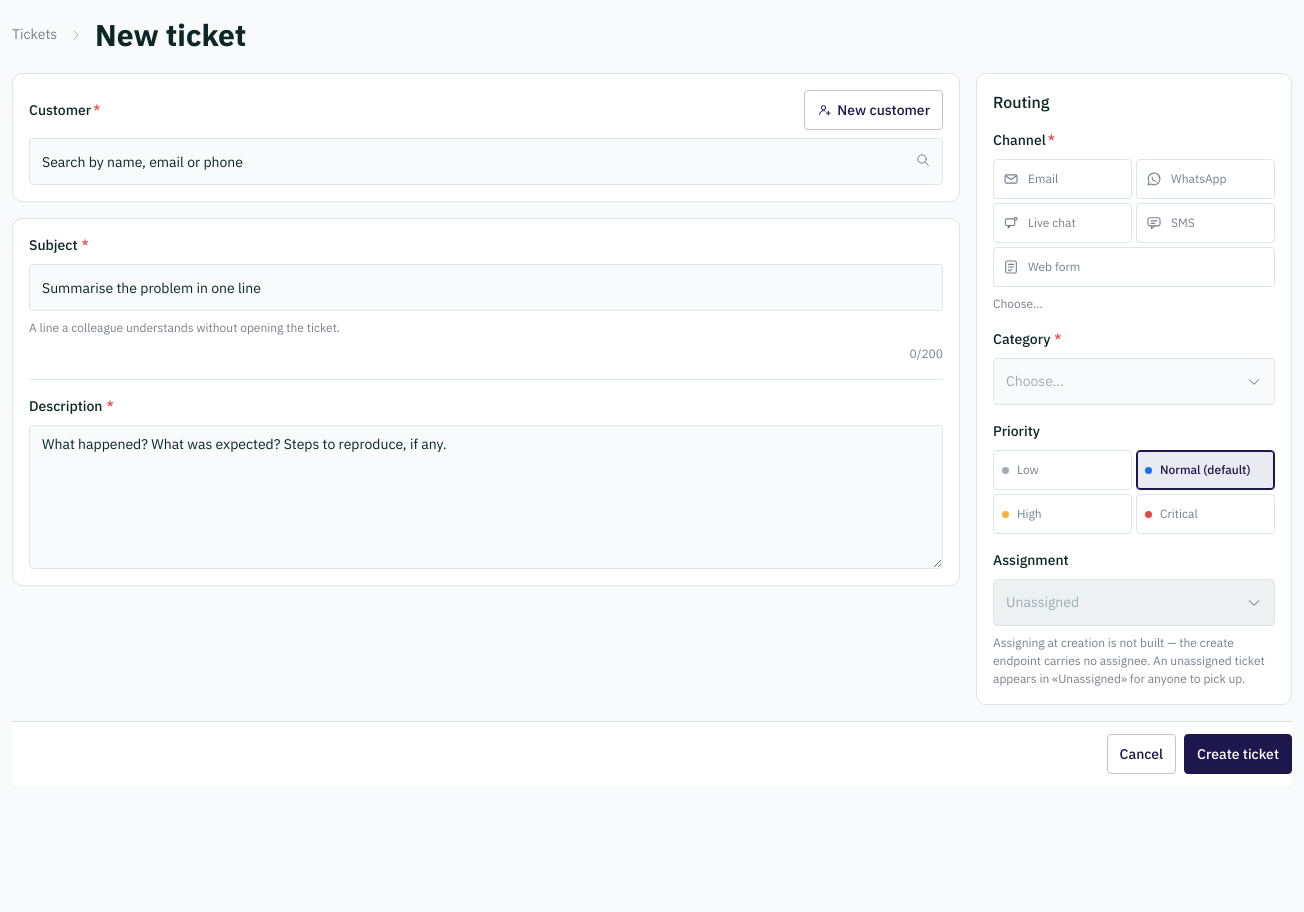
Test: AC-12, AC-13, AC-14 — the duplicate check › asks TWO questions per selection — the open ones, and the previous ones
Type "Gulf" into the field named "Customer" at x=486, y=162, box [29,138,943,185]
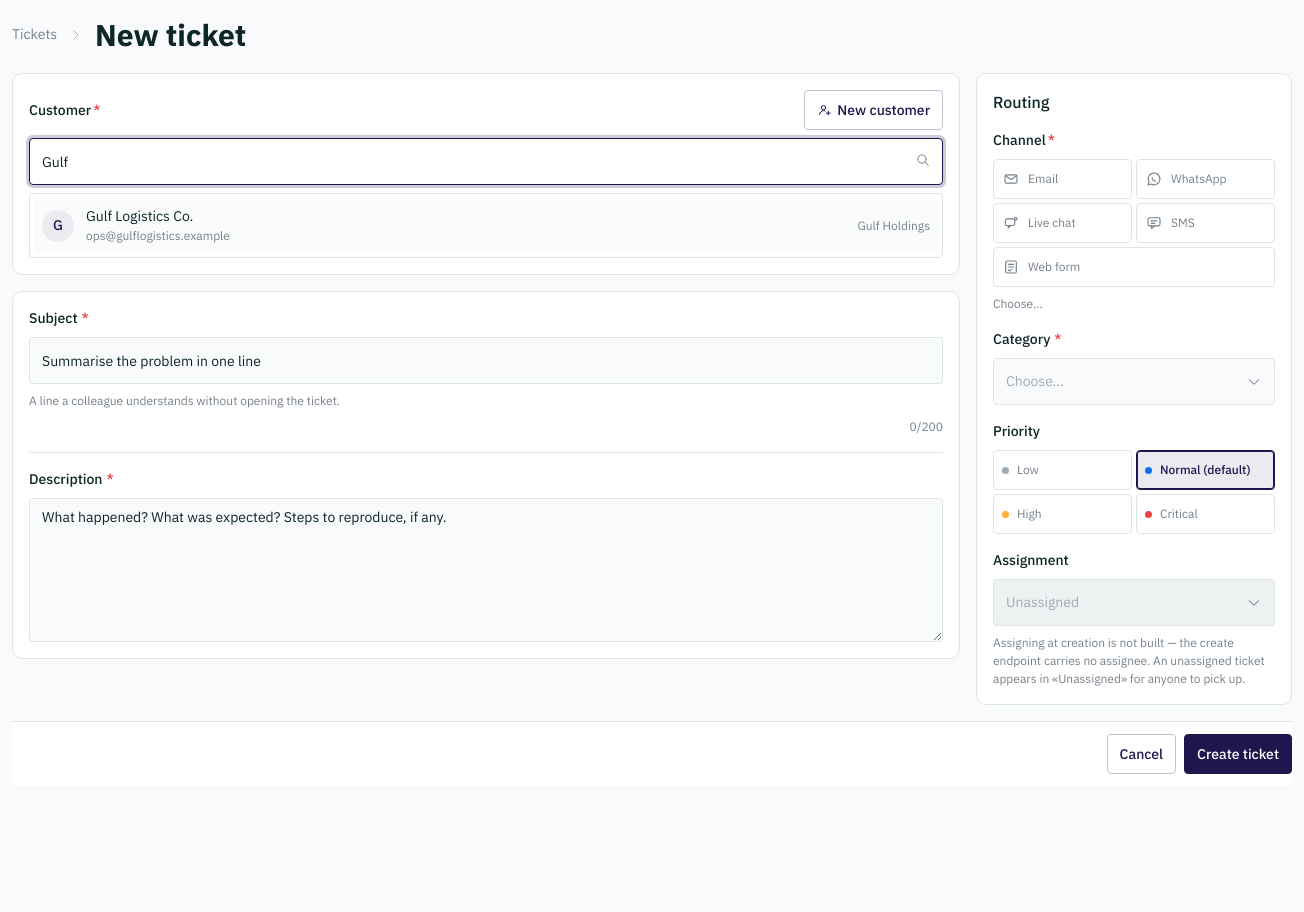
Click the option "G Gulf Logistics Co. ops@gulflogistics.example Gulf Holdings" at x=58, y=226, box [34,198,938,253]
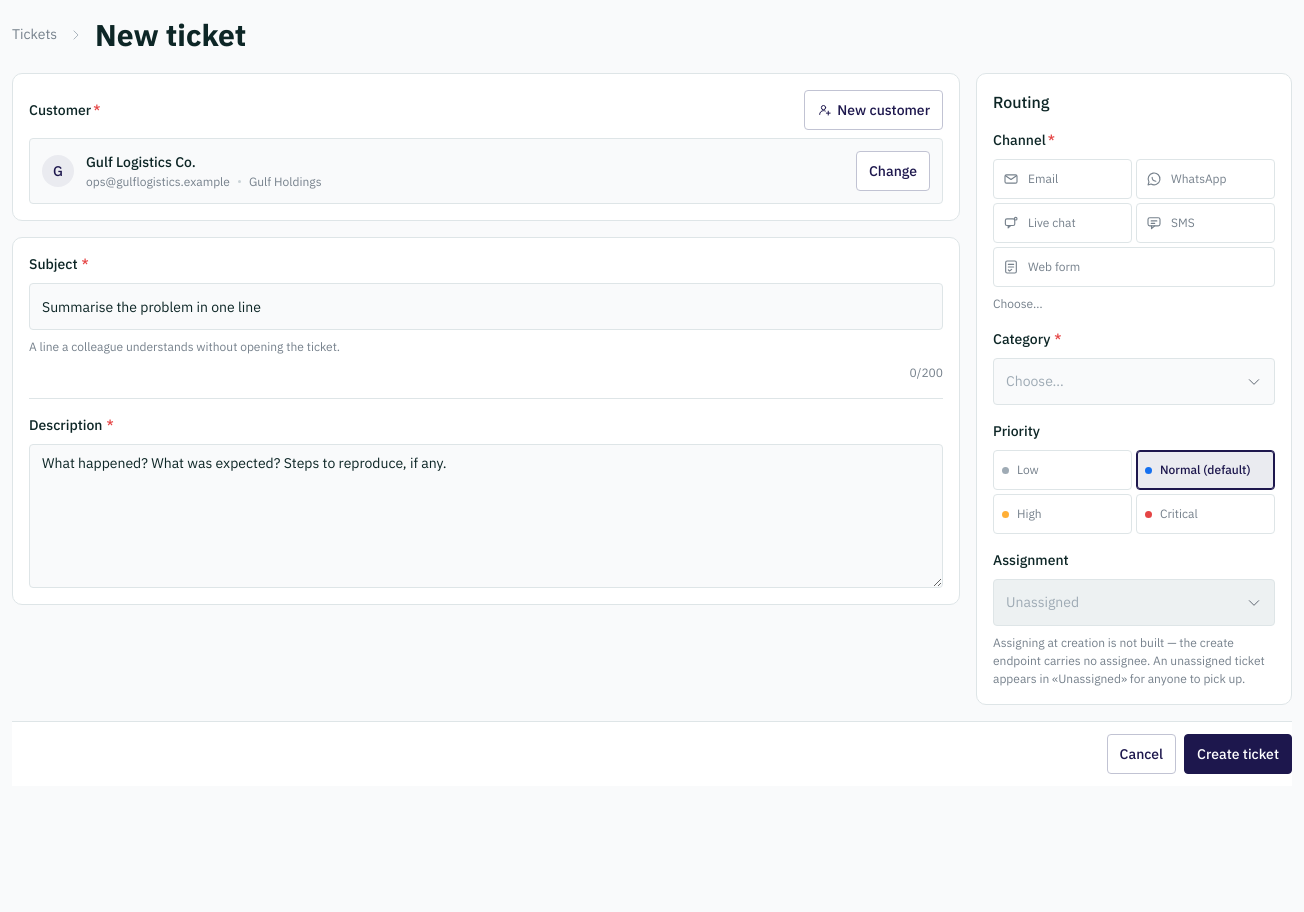
Expected: the button "Change" is shown, [856,151,930,191]
